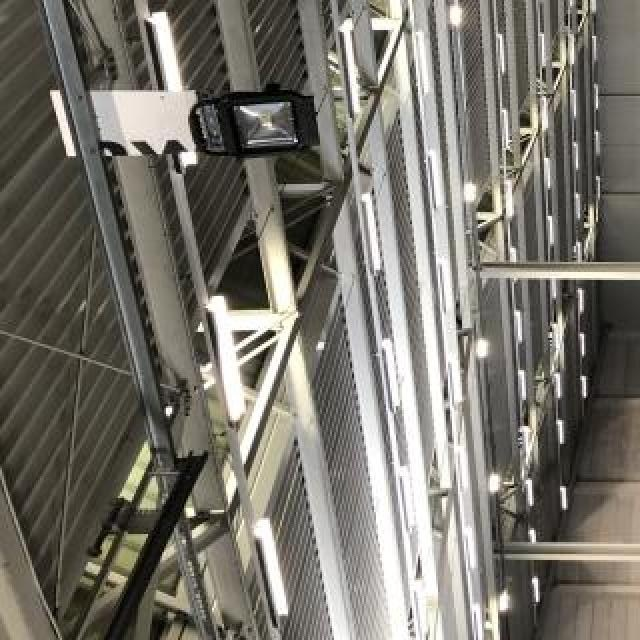fluorescent tube: (138, 0, 200, 180), (202, 283, 258, 434), (249, 514, 304, 623), (333, 20, 362, 122), (358, 184, 386, 287), (377, 329, 406, 415), (411, 20, 440, 98), (431, 249, 456, 326), (398, 462, 422, 536), (421, 140, 443, 220), (496, 173, 520, 227), (443, 355, 465, 413), (487, 29, 511, 82), (504, 302, 531, 349), (455, 438, 477, 495), (460, 515, 480, 577), (465, 600, 493, 638), (502, 238, 522, 289), (520, 474, 544, 514), (497, 102, 515, 154), (537, 93, 555, 137), (569, 138, 587, 179), (518, 423, 535, 465), (563, 29, 580, 71), (569, 188, 587, 226), (558, 478, 575, 518), (538, 151, 555, 191), (547, 368, 566, 401), (566, 85, 581, 126), (552, 318, 568, 356), (587, 32, 603, 68), (572, 283, 588, 317), (572, 237, 588, 268), (592, 77, 605, 115), (547, 209, 559, 250), (576, 374, 592, 403), (537, 31, 549, 69), (518, 368, 529, 408), (533, 571, 545, 607), (549, 275, 563, 305), (553, 418, 565, 449), (527, 528, 540, 556), (593, 173, 605, 201), (575, 332, 588, 357), (593, 131, 604, 156), (566, 0, 580, 14), (588, 0, 600, 16), (534, 0, 544, 8), (480, 0, 502, 2)
